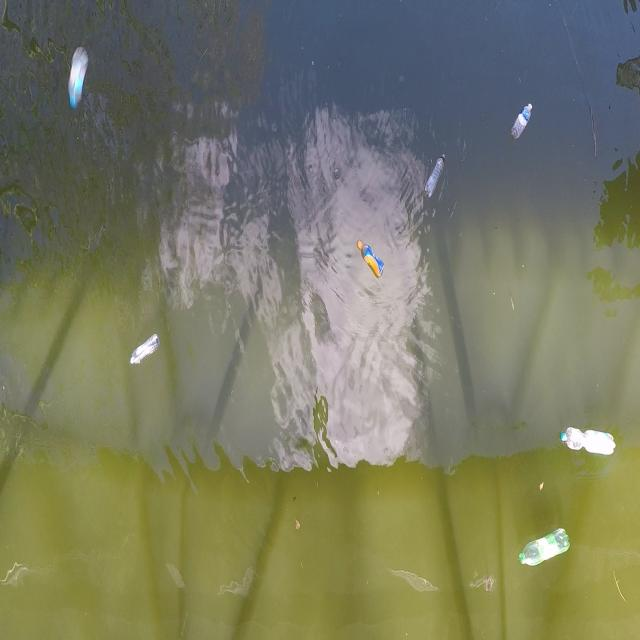Bouteille plastique: (514, 520, 576, 573), (558, 421, 619, 460), (354, 237, 388, 286), (422, 151, 452, 205), (128, 330, 165, 371), (510, 100, 538, 145)
